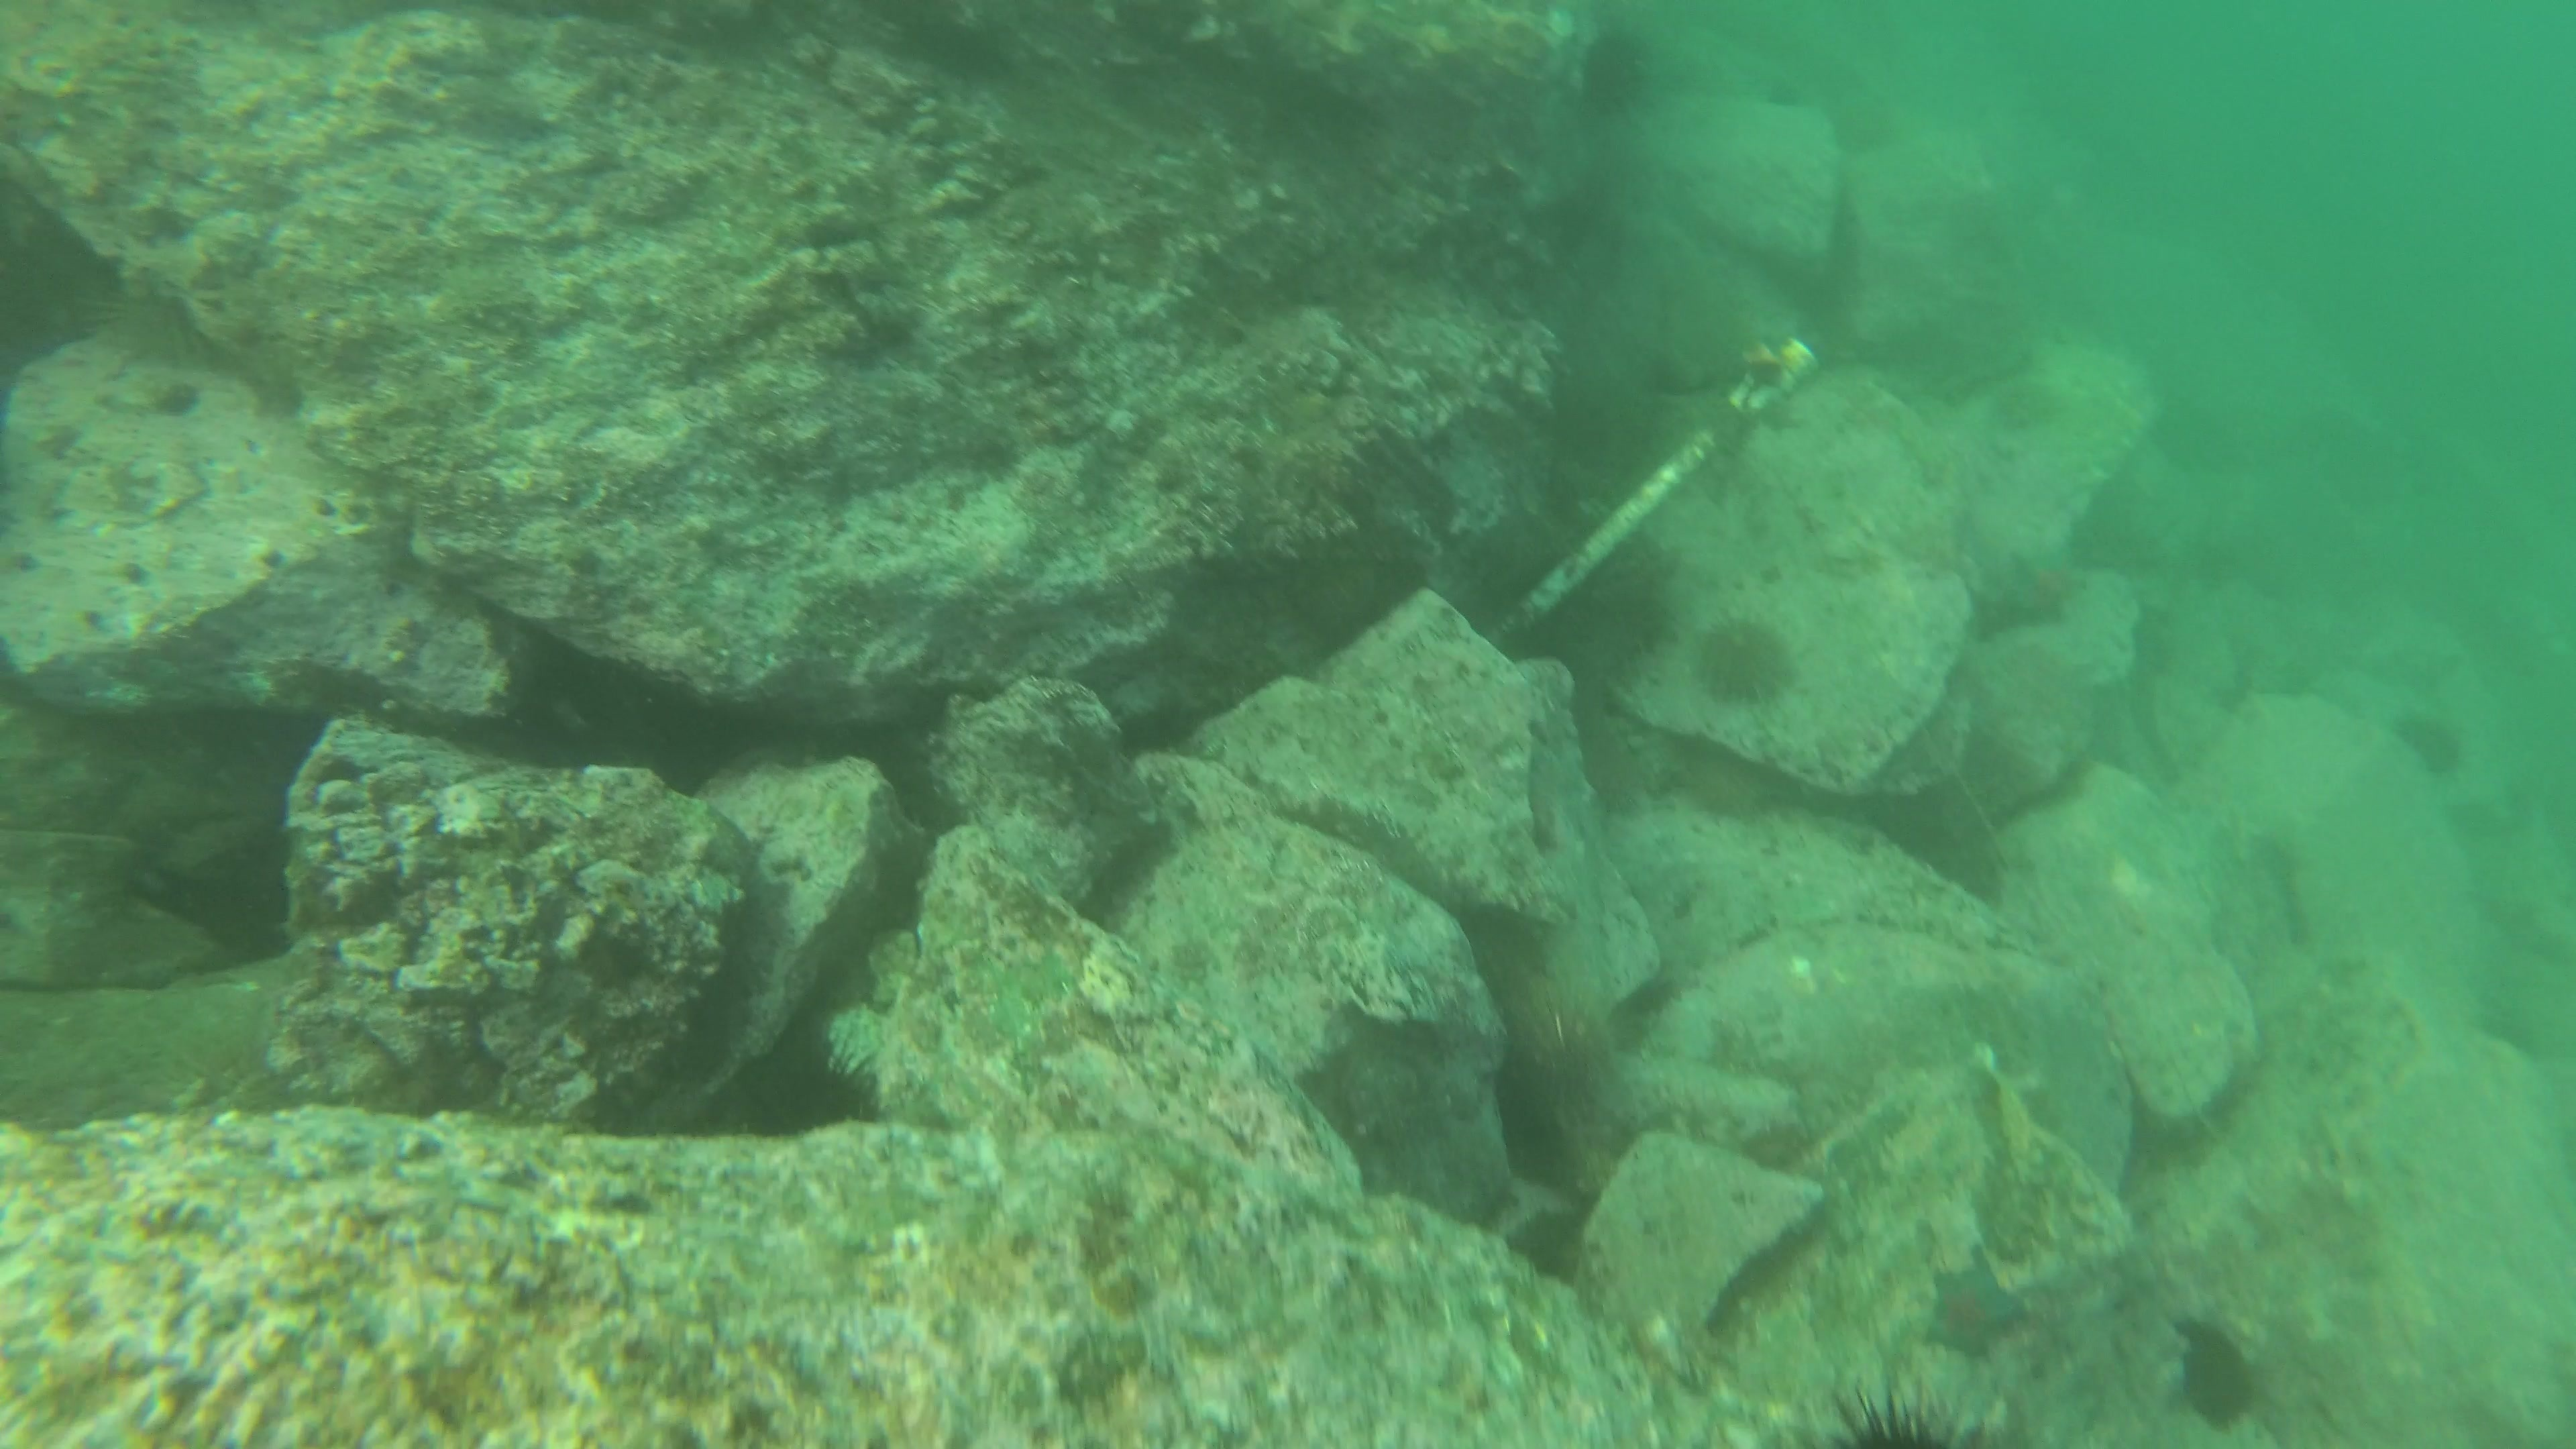echinus: (1500, 970, 1615, 1122), (1790, 1371, 2019, 1444), (1686, 609, 1803, 715), (1564, 19, 1667, 126), (2388, 702, 2472, 784)
starfish: (1916, 1247, 2035, 1364), (1974, 534, 2089, 640)
